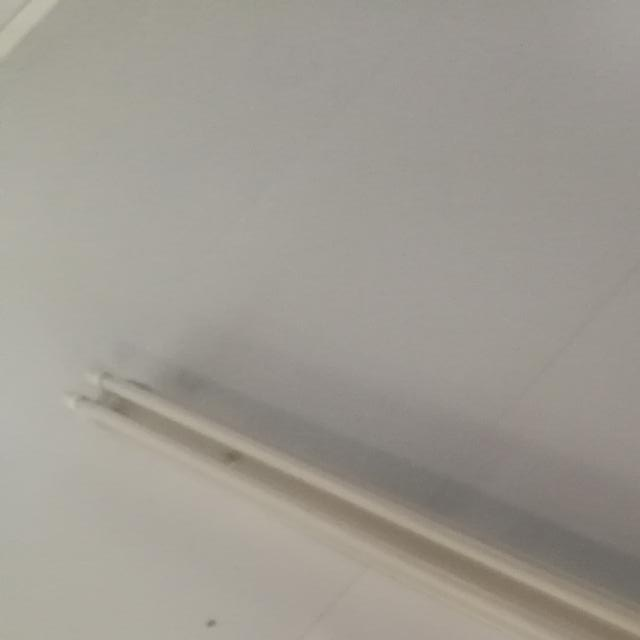fluorescent tube: (43, 363, 640, 640)
